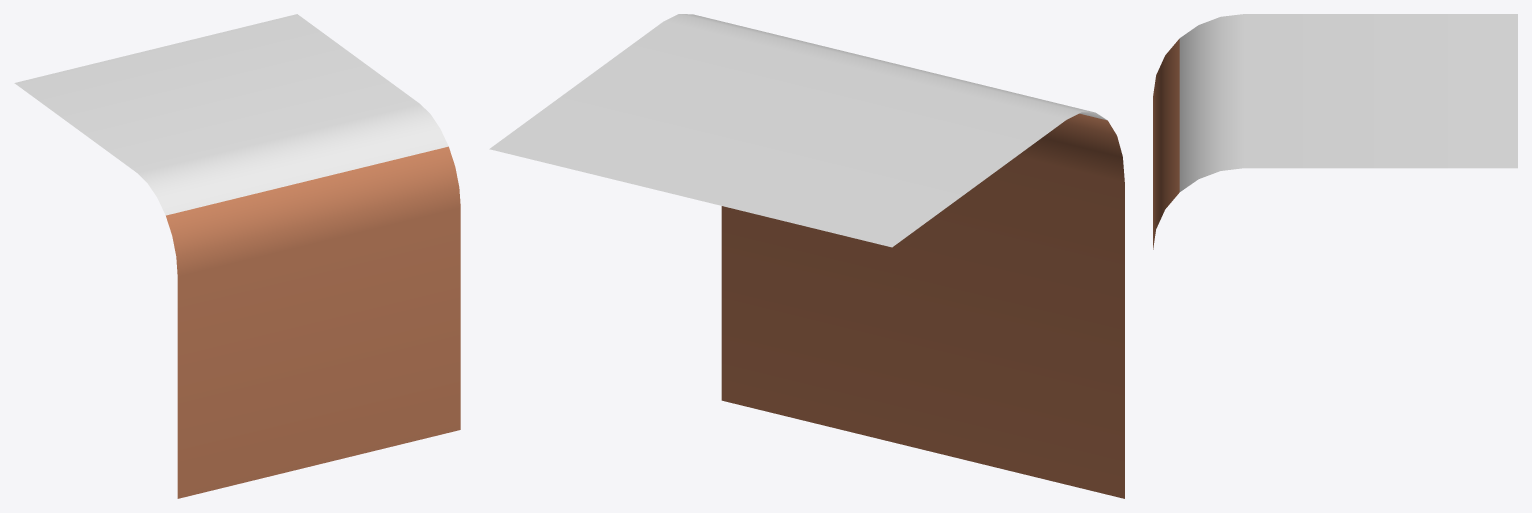
File: SM_Cube_Straight_FN.fbx
3 renders of one model, left to right at view 1: azimuth 30°, elevation 25°; view 2: azimuth 150°, elevation 25°; view 3: azimuth 270°, elevation 25°, orthographic. The views are drawn at different scales.
Visible parts, largest first — view 1: SM_Cube_Straight_FN; view 2: SM_Cube_Straight_FN; view 3: SM_Cube_Straight_FN.
Boxes of the visible parts, x1=… form: SM_Cube_Straight_FN: x1=14, y1=14, x2=460, y2=498; SM_Cube_Straight_FN: x1=489, y1=14, x2=1124, y2=498; SM_Cube_Straight_FN: x1=1153, y1=14, x2=1517, y2=249.
Bounding box in the file's own units: 200 × 200 × 200.
